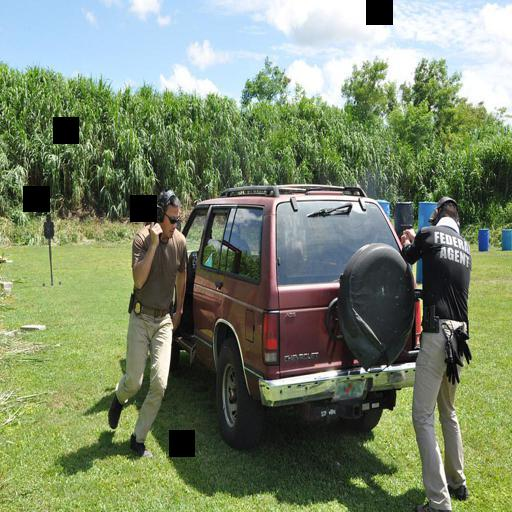Handgun: (143, 172, 168, 230), (392, 218, 412, 239)
